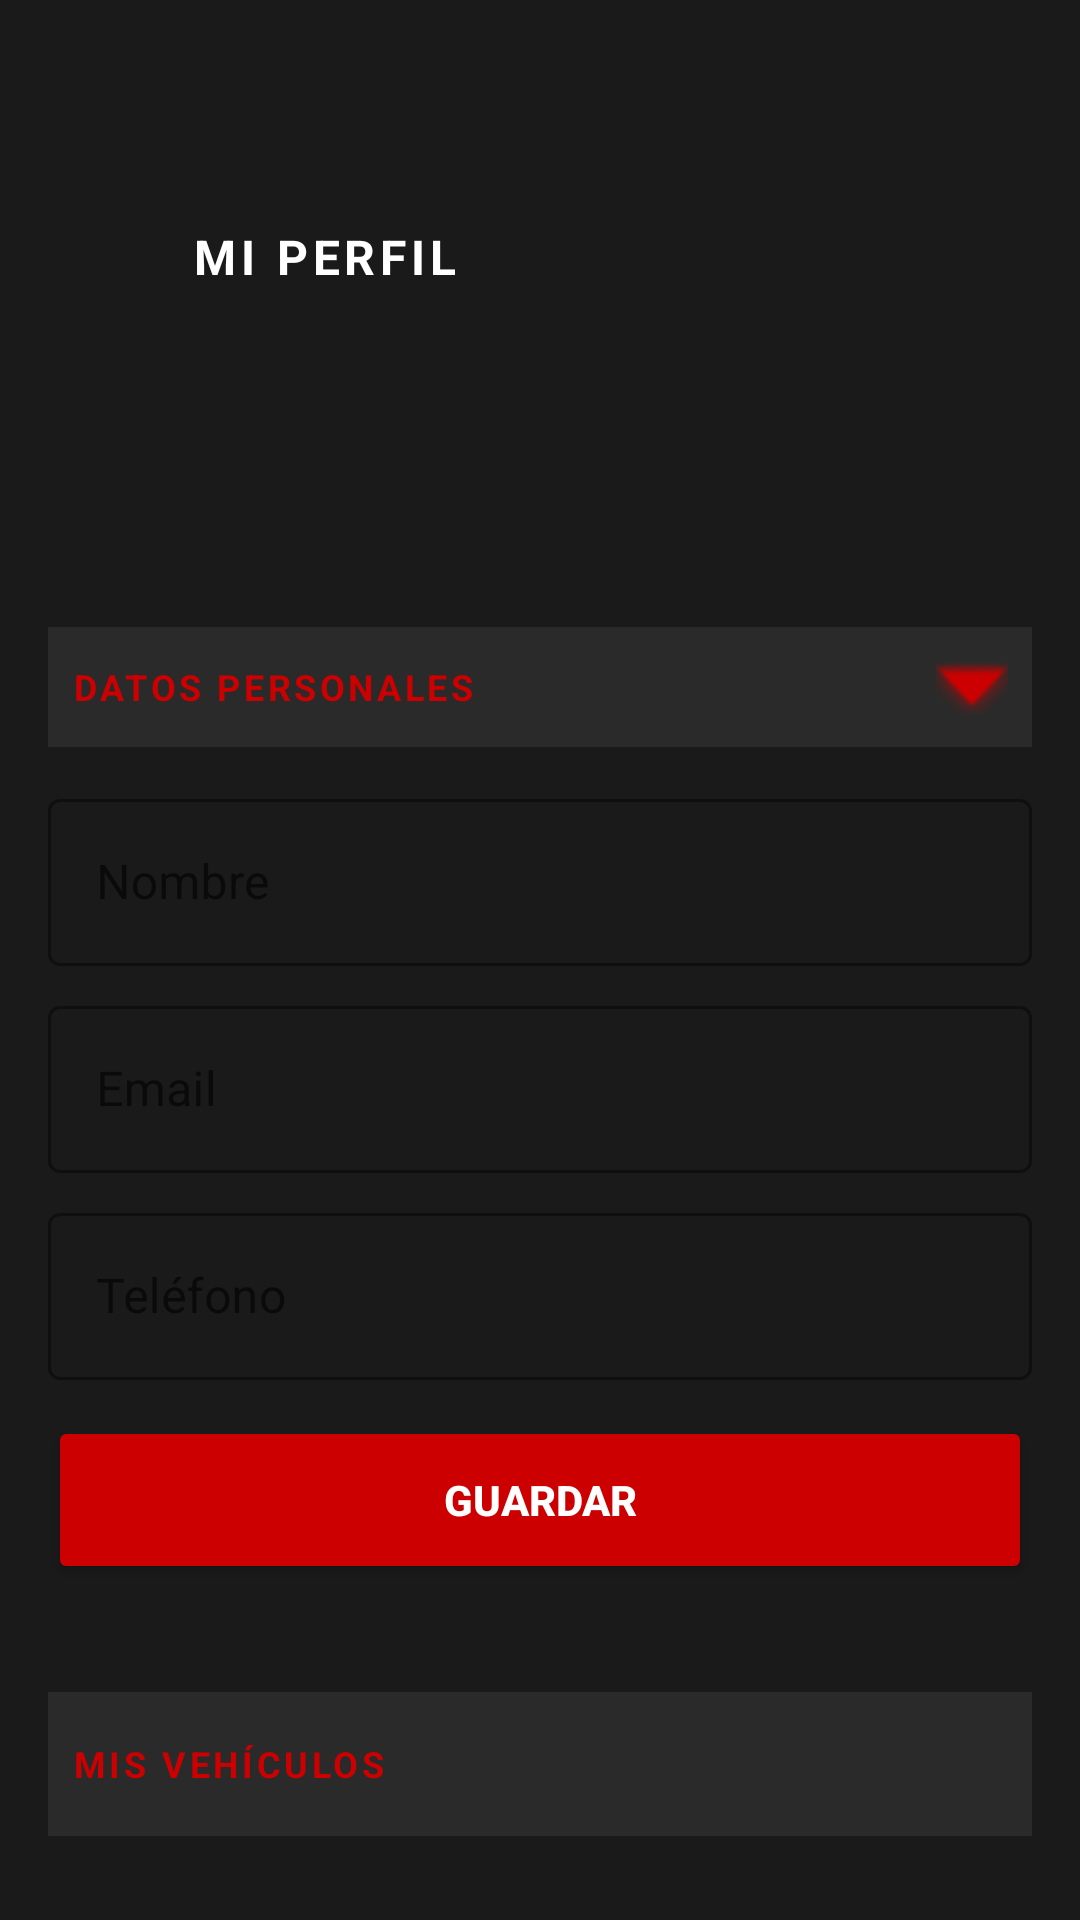

Point at icon controls on the screen. Image size 1080 × 1920, points as (x=x, y=y).
arrow down float: (x=972, y=686)
